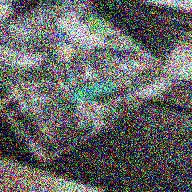러키펜정: (58, 14, 82, 31)
씨엠지세파클러캡슐: (57, 31, 74, 62)
에르도캡슐: (69, 80, 117, 104)
휴티렌정: (86, 15, 115, 33)
